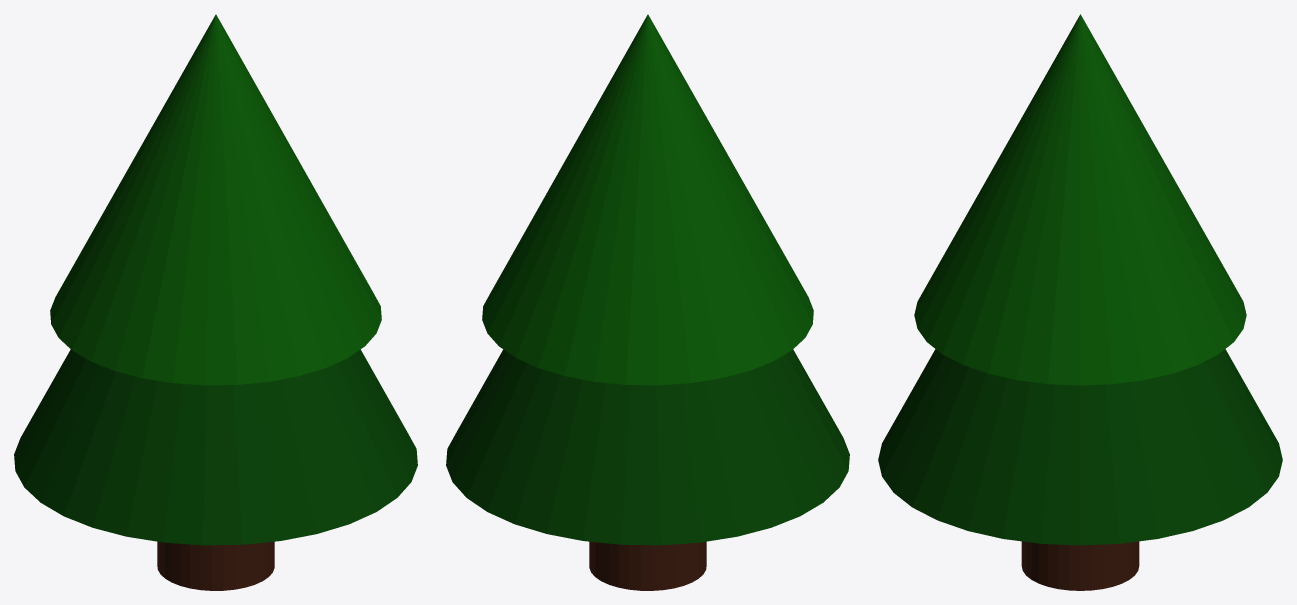
The model's file is ELKA.glb.
3 renders of one model, left to right at view 1: azimuth 30°, elevation 25°; view 2: azimuth 150°, elevation 25°; view 3: azimuth 270°, elevation 25°, orthographic.
Parts seen in each view (by area): view 1: Cone; view 2: Cone; view 3: Cone.
Boxes of the visible parts, box(x1,y1,x2,y2) form: Cone: box(14, 14, 417, 590); Cone: box(446, 14, 849, 590); Cone: box(878, 14, 1282, 590).
Size of the model in its own units: 1.44 by 2.16 by 1.44.
